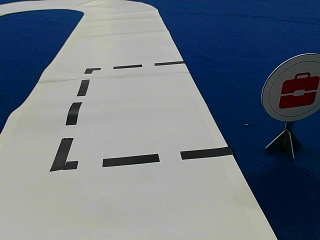company: (262, 54, 319, 120)
